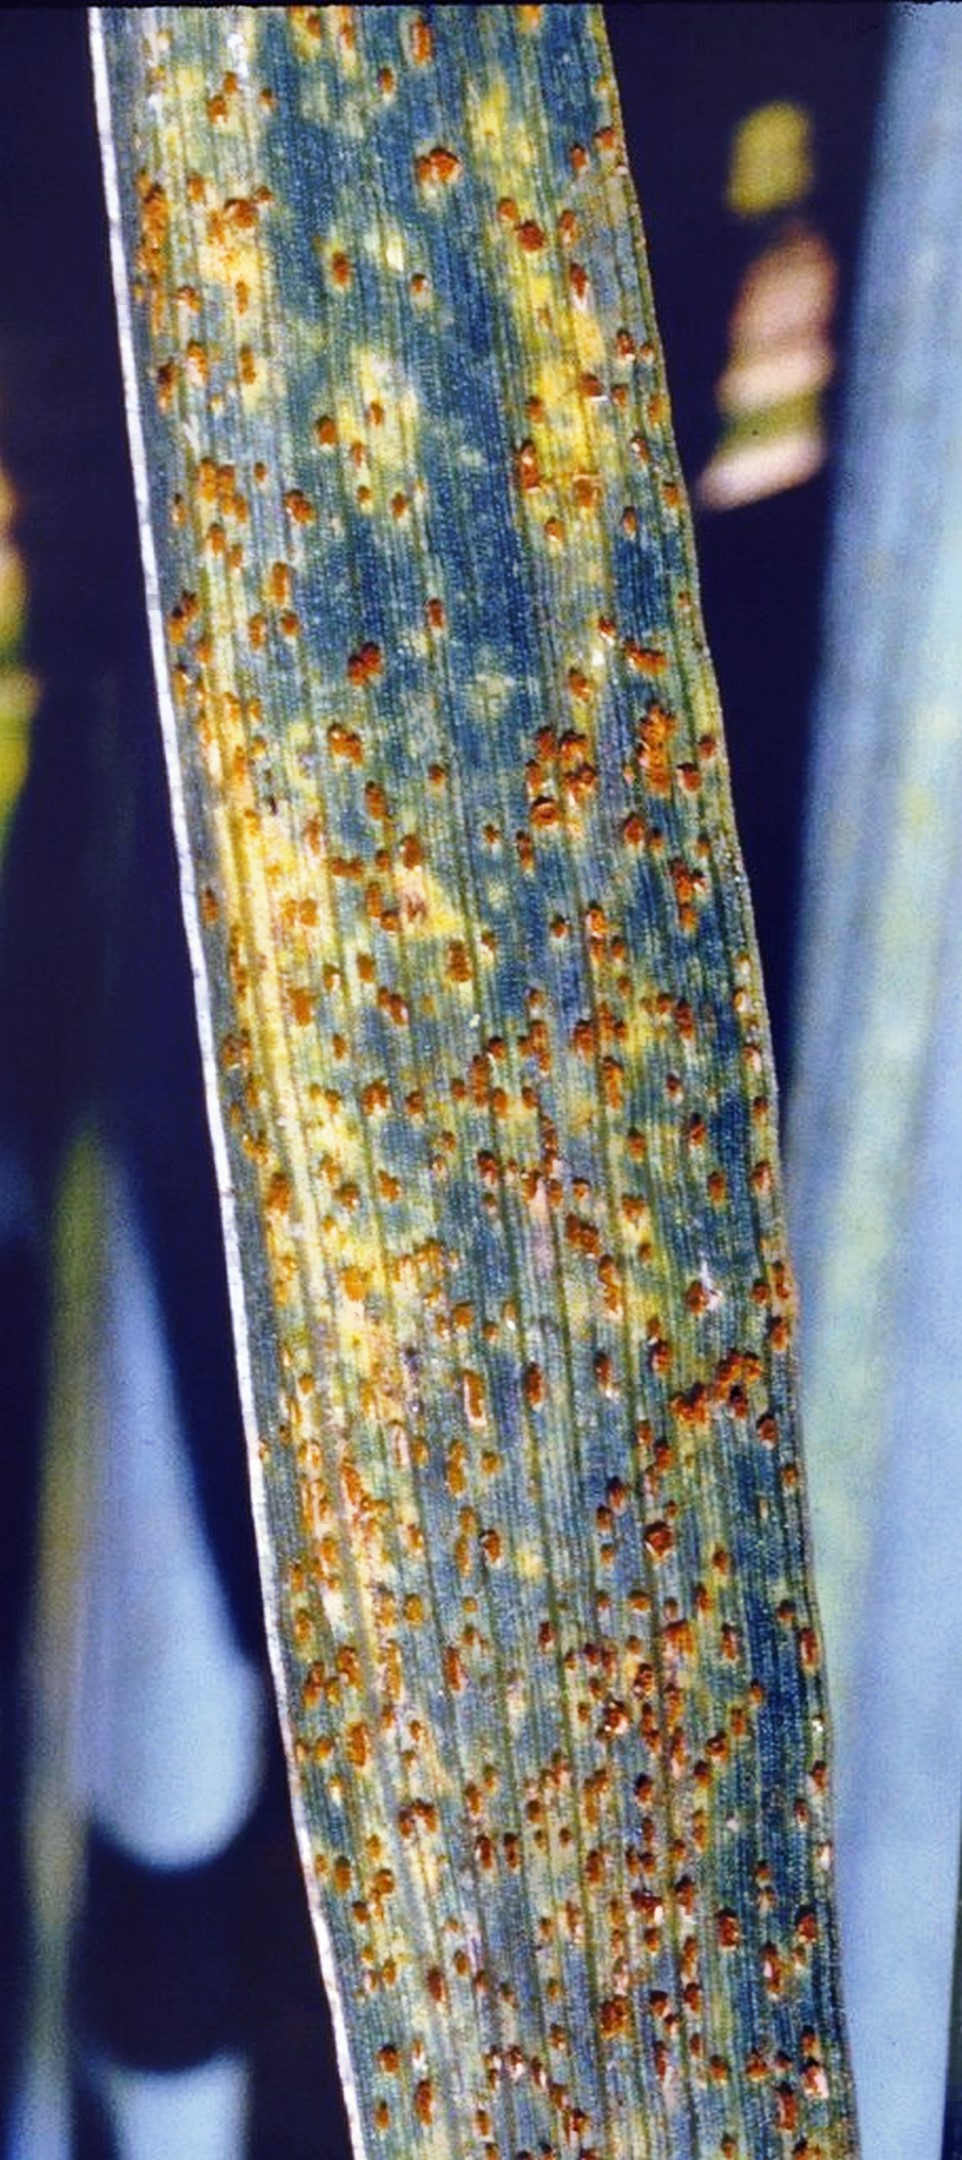Leaf Rust: (96, 103, 901, 2068)
